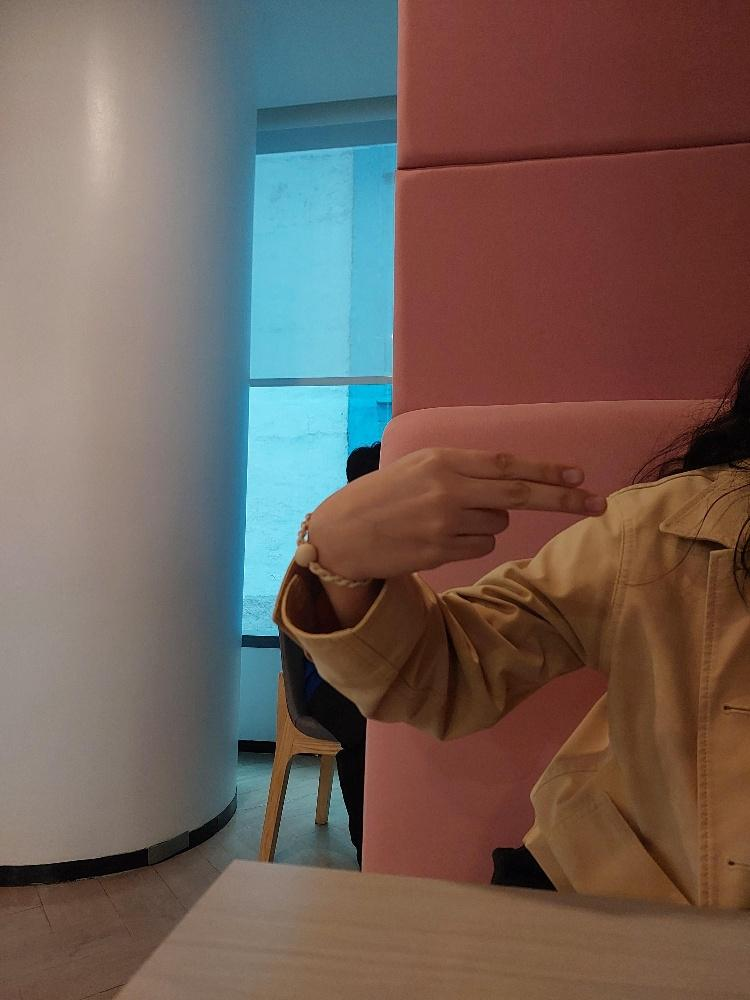h: (292, 435, 613, 587)
